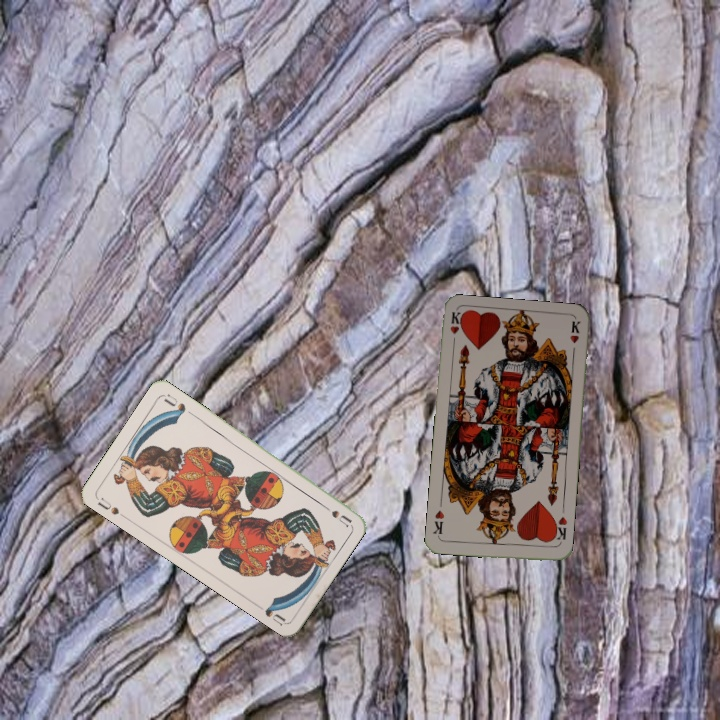HK: (446, 309, 465, 349), (549, 512, 569, 547)
SU: (316, 499, 354, 528), (93, 493, 122, 517)
